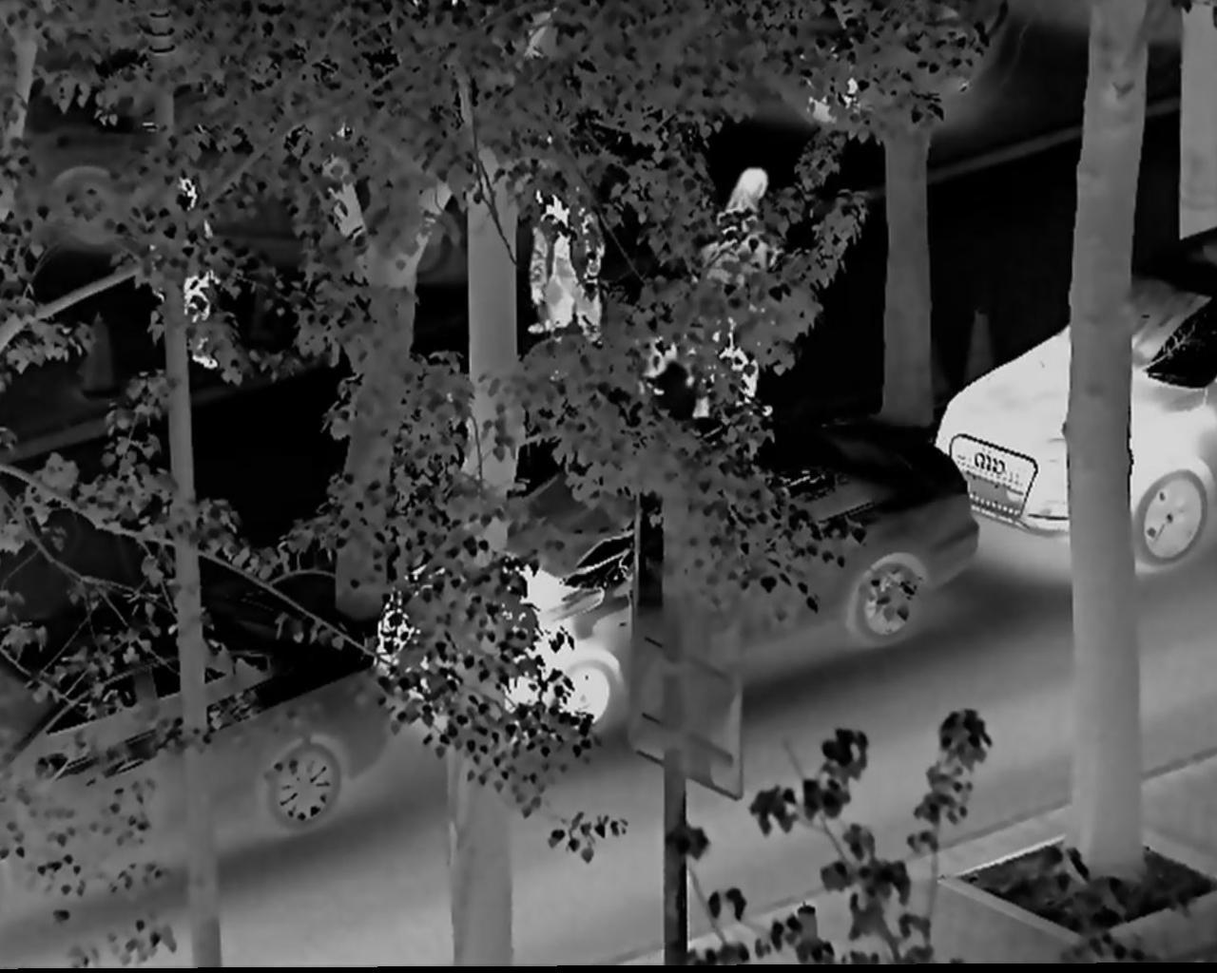person: (526, 162, 636, 364), (704, 140, 772, 403), (148, 179, 223, 372)
